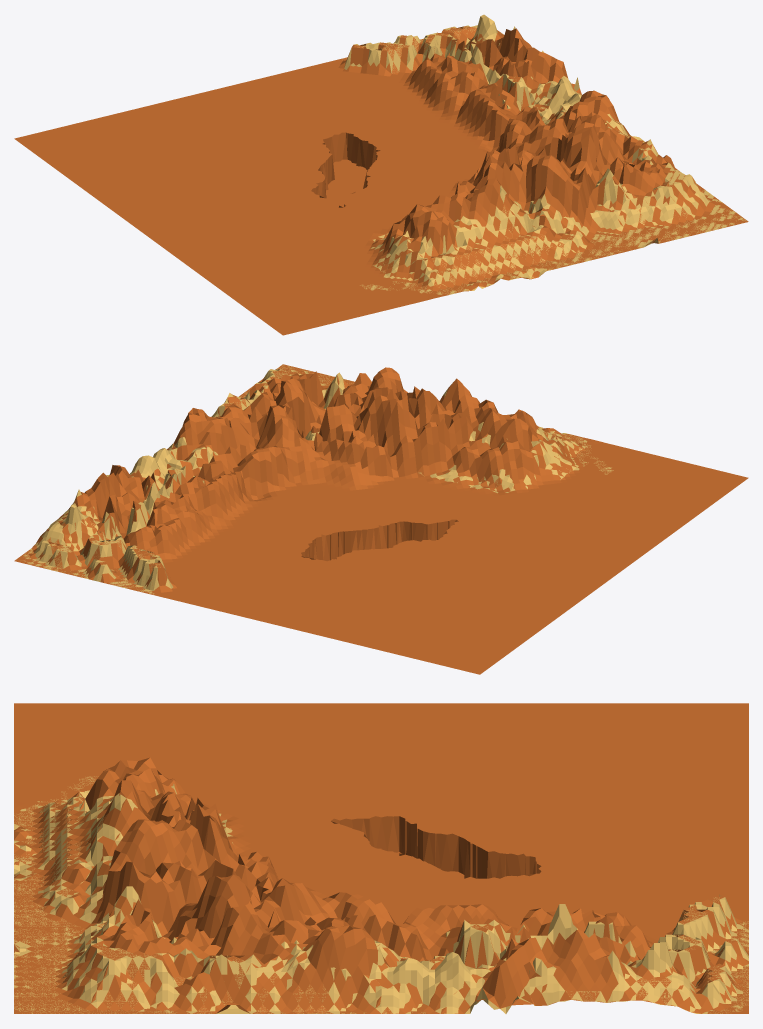
The model's file is mapdesertsave3.fbx.
The picture shows the model from 3 angles, top to bottom: view 1: azimuth 30°, elevation 25°; view 2: azimuth 150°, elevation 25°; view 3: azimuth 270°, elevation 25°; orthographic projection. The views are drawn at different scales.
Parts seen in each view (by area): view 1: Plane, Plane.001; view 2: Plane, Plane.001; view 3: Plane, Plane.001.
Part boxes in pixels (<box>): Plane: <box>14,26,748,335</box>; Plane.001: <box>344,14,748,294</box>; Plane: <box>14,364,748,674</box>; Plane.001: <box>23,365,613,594</box>; Plane: <box>14,703,748,1013</box>; Plane.001: <box>14,776,748,1013</box>.
Size of the model in its own units: 7463 by 1446 by 7463.
